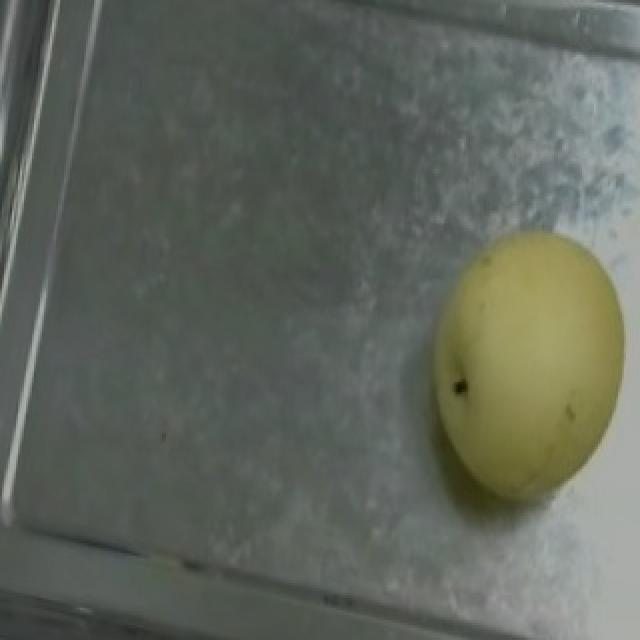Fruit: (392, 211, 640, 526)
